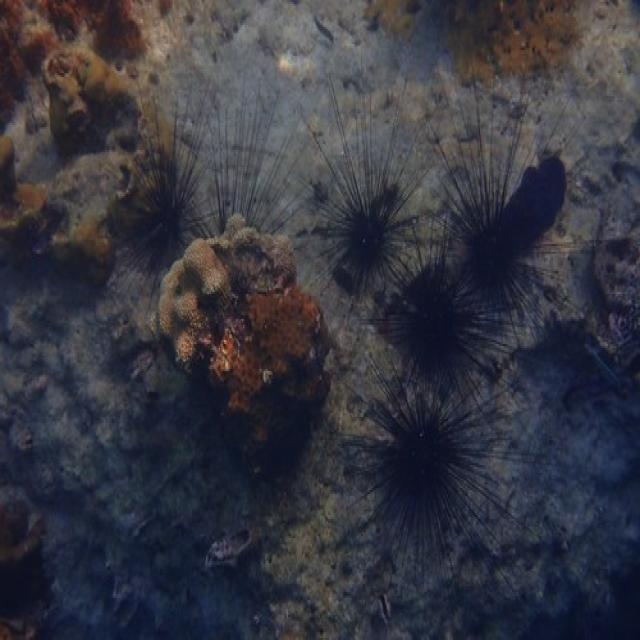Urchin: (432, 73, 588, 346), (335, 350, 525, 574), (287, 58, 421, 294), (361, 207, 500, 396), (108, 77, 215, 302)
